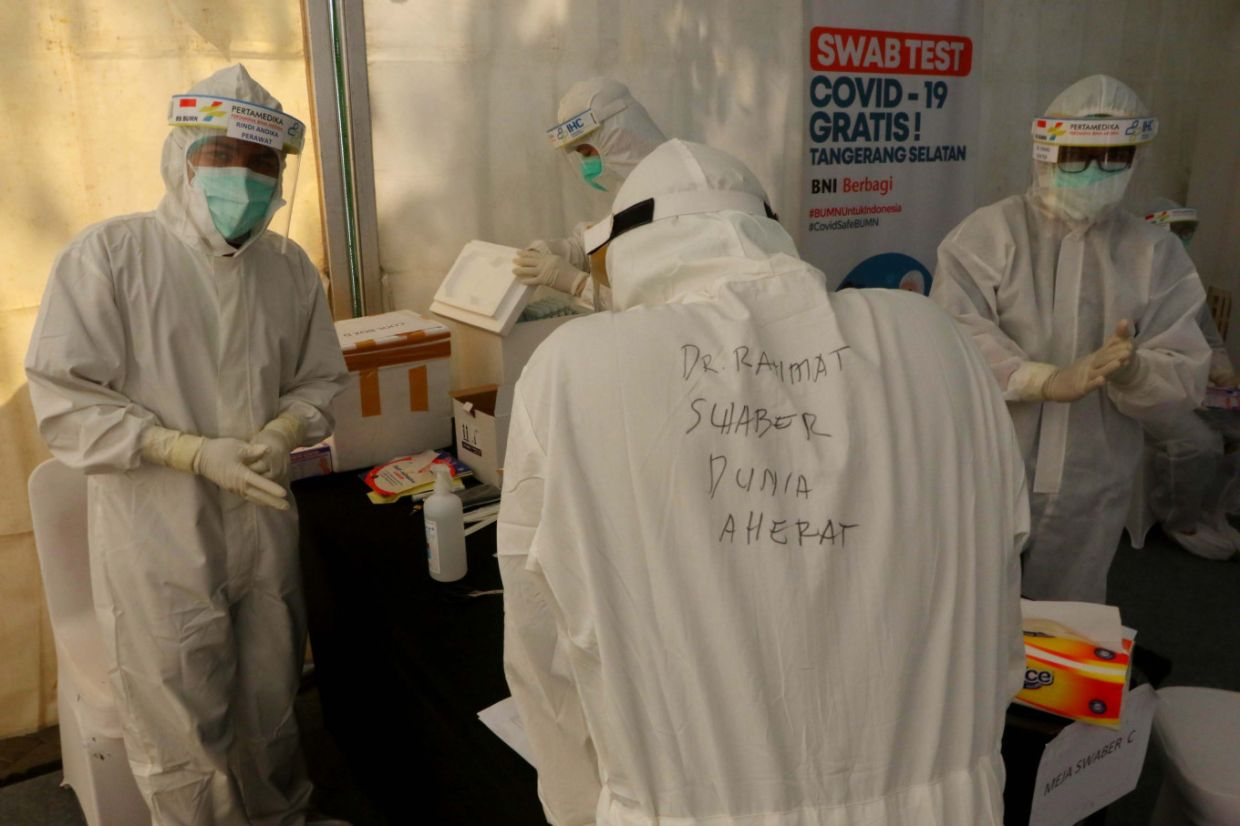Coverall: (473, 134, 1029, 826), (11, 47, 358, 826), (923, 69, 1207, 633)
Face_Shield: (158, 89, 314, 265), (1025, 106, 1171, 238), (545, 102, 623, 215)
Gloves: (138, 415, 293, 518)
